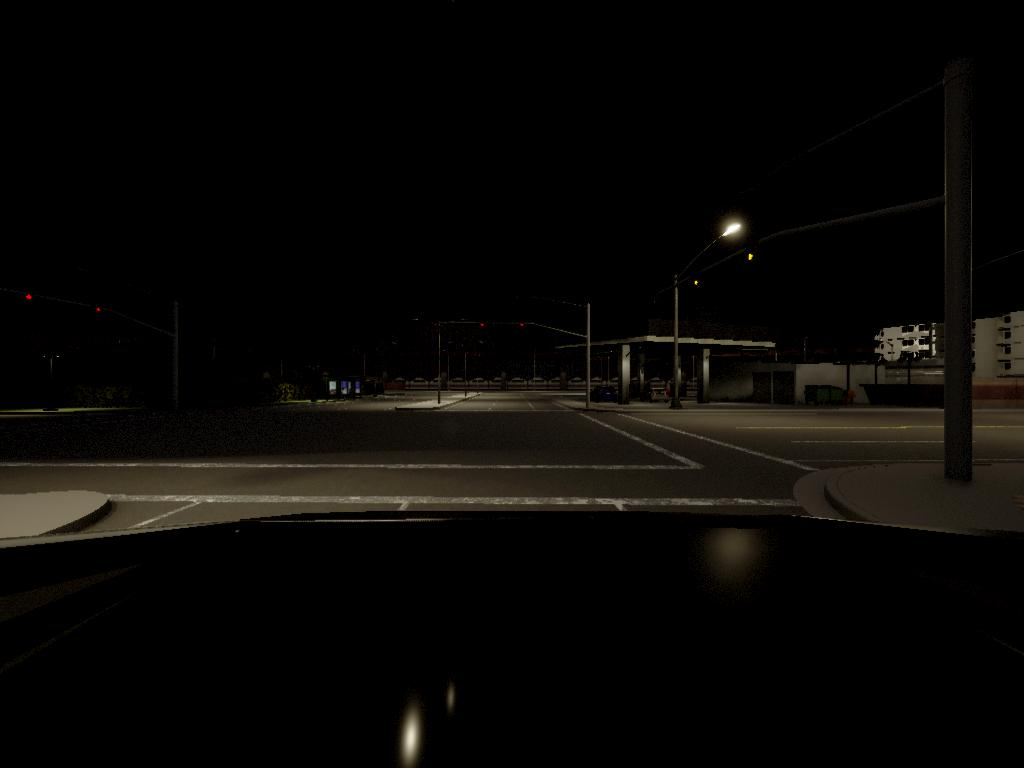traffic_light: (747, 251, 756, 270), (479, 321, 487, 337), (26, 293, 35, 305), (693, 279, 701, 291), (95, 306, 102, 319), (520, 322, 525, 332)
